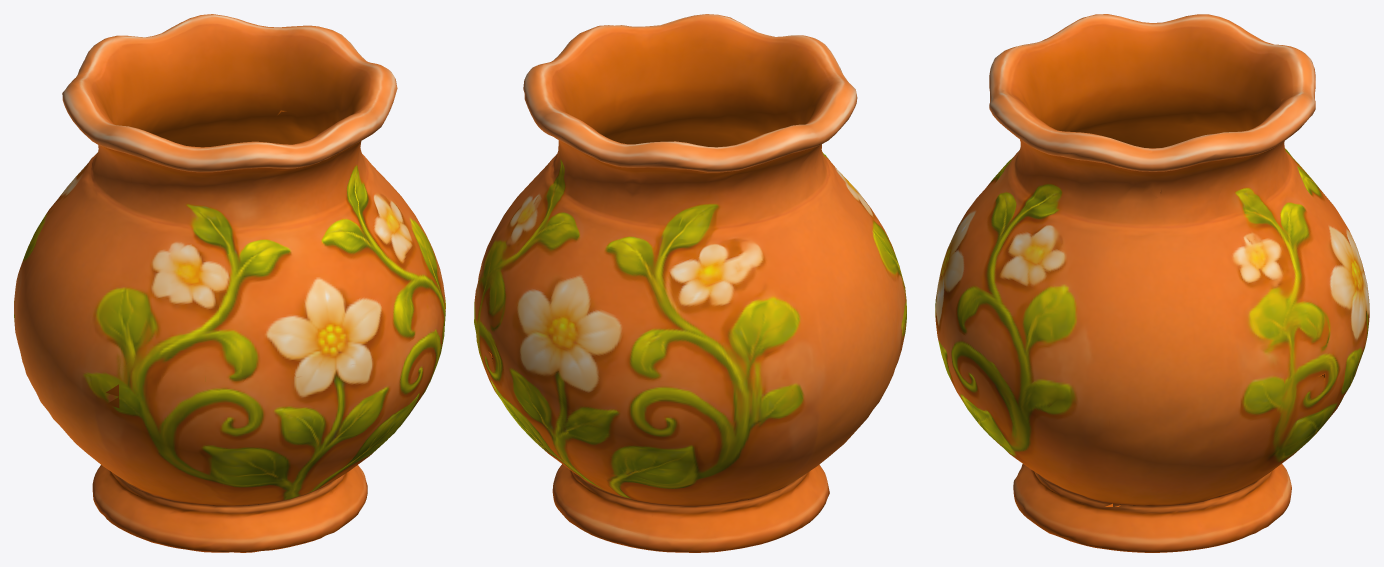
The model's file is vase_orange.glb.
The picture shows the model from 3 angles, left to right: view 1: azimuth 30°, elevation 25°; view 2: azimuth 150°, elevation 25°; view 3: azimuth 270°, elevation 25°; orthographic projection.
Parts seen in each view (by area): view 1: geometry_0; view 2: geometry_0; view 3: geometry_0.
Boxes of the visible parts, x1,y1,x2,y2 form: geometry_0: (14, 14, 445, 552); geometry_0: (474, 14, 906, 552); geometry_0: (935, 14, 1369, 552).
Size of the model in its own units: 0.8906 by 0.9507 by 0.8911.
Materials: 1 (1 with a texture image).
